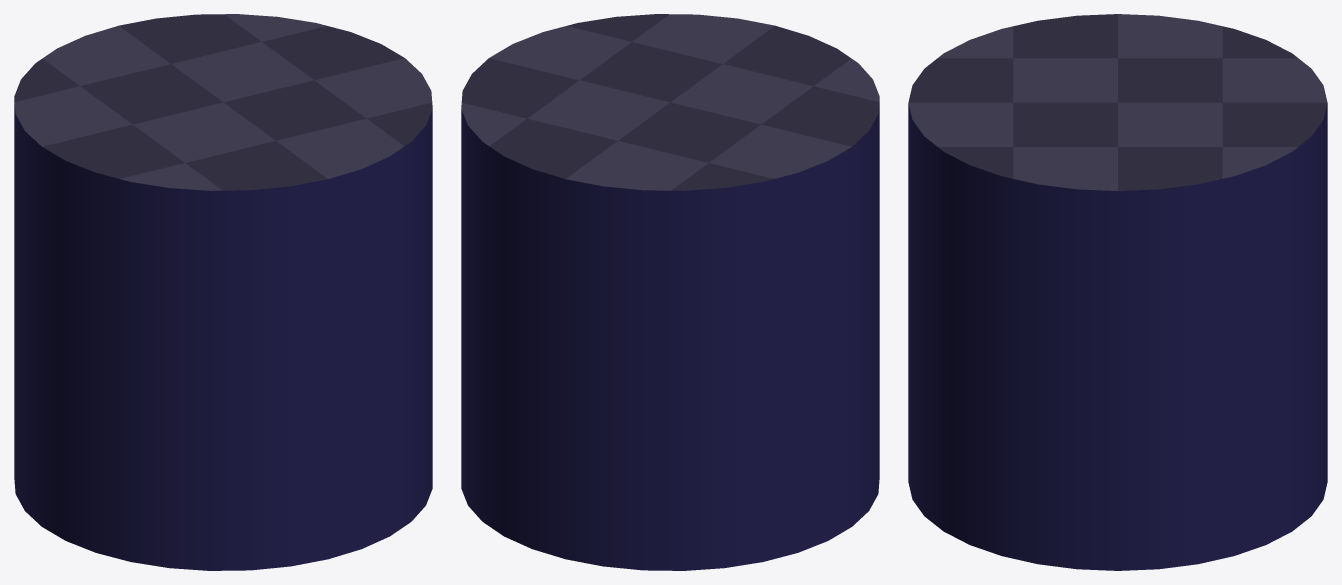
File: cyl_dark.glb
3 renders of one model, left to right at view 1: azimuth 30°, elevation 25°; view 2: azimuth 150°, elevation 25°; view 3: azimuth 270°, elevation 25°, orthographic.
Visible parts, largest first — view 1: Body; view 2: Body; view 3: Body.
Boxes of the visible parts, <box> form: Body: <box>14,14,432,570</box>; Body: <box>461,14,879,570</box>; Body: <box>908,14,1327,570</box>.
Size of the model in its own units: 1 by 1 by 1.
